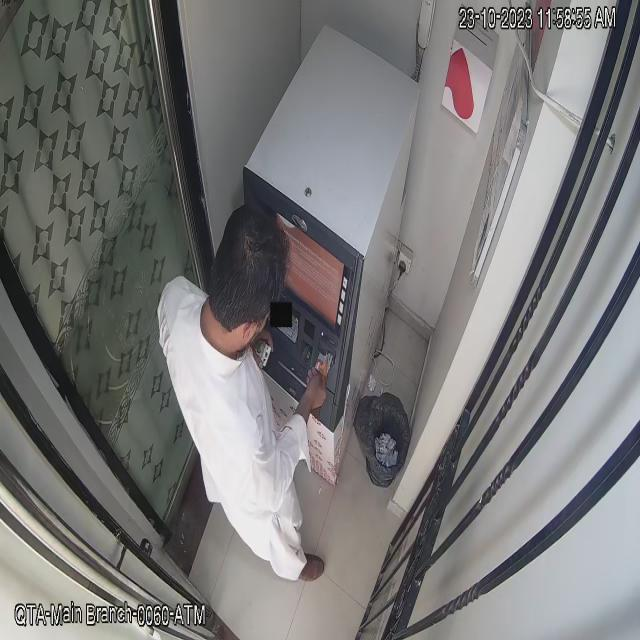atm-card: (311, 342, 336, 381)
